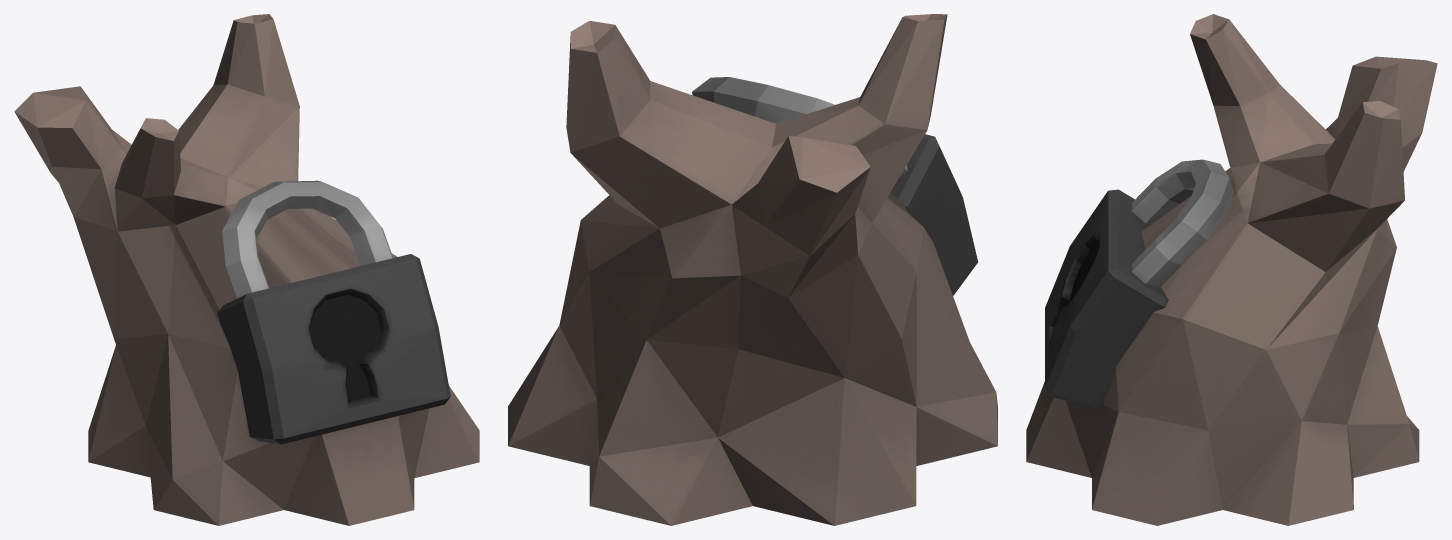
File: NiveauDesert_Ferme.FBX
3 renders of one model, left to right at view 1: azimuth 30°, elevation 25°; view 2: azimuth 150°, elevation 25°; view 3: azimuth 270°, elevation 25°, orthographic. The views are drawn at different scales.
Parts seen in each view (by area): view 1: NiveauDesert_Ferme; view 2: NiveauDesert_Ferme; view 3: NiveauDesert_Ferme.
Boxes of the visible parts, <box> form: NiveauDesert_Ferme: <box>14,14,479,525</box>; NiveauDesert_Ferme: <box>508,14,997,525</box>; NiveauDesert_Ferme: <box>1026,14,1437,525</box>.
Size of the model in its own units: 2.56 by 2.65 by 2.72.
